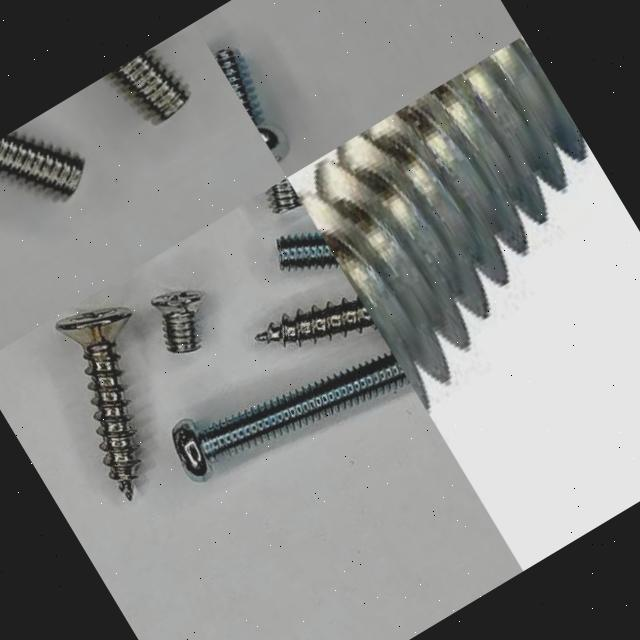Screw: (299, 36, 593, 408), (174, 352, 411, 482), (56, 307, 140, 500), (213, 49, 289, 162), (256, 296, 376, 344), (0, 133, 85, 195), (152, 291, 205, 353), (267, 178, 303, 213)
